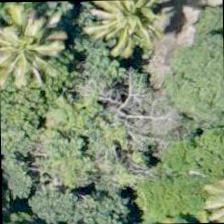Kelapa_Sawit: (0, 2, 73, 94), (86, 0, 178, 61)
